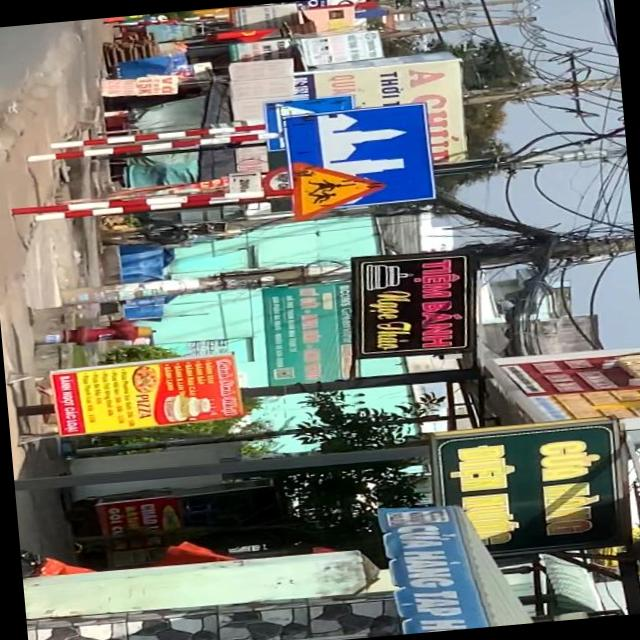W-225: (286, 155, 388, 219)
